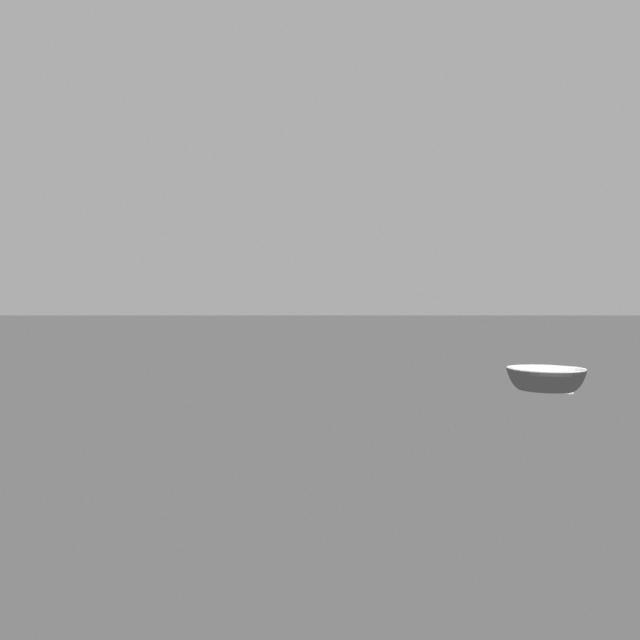bowl: (491, 348, 601, 414)
